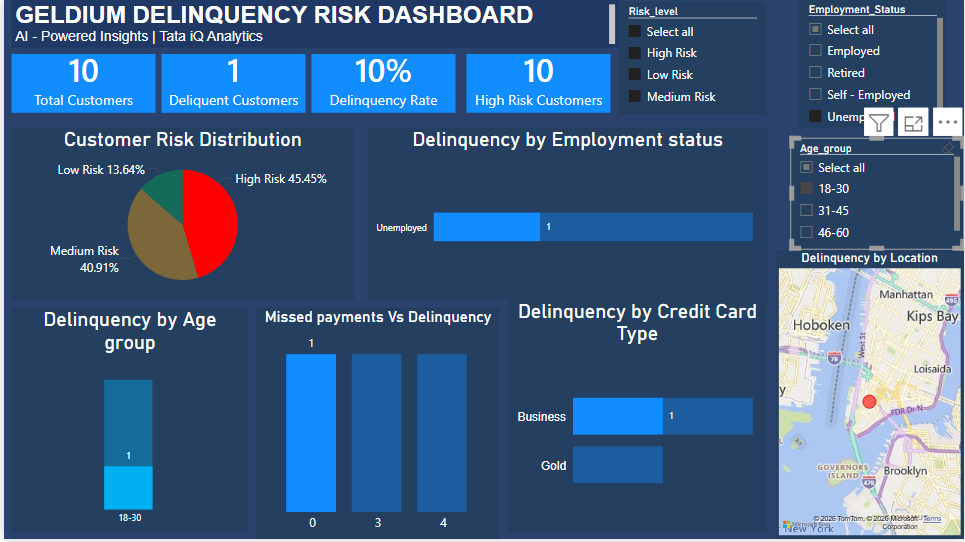

Layout of this report page (visuals, bound fields, positions):
{"tool":"powerbi","page":{"name":"Page 1","canvas":[1280,720],"ordinal":0},"visuals":[{"type":"textbox","box":[10,0,810,65],"z":0},{"type":"cardVisual","fields":{"Data":["CountNonNull(Delinquency_prediction_dataset.Customer_ID)"]},"box":[10,74,192,78],"z":1000},{"type":"cardVisual","fields":{"Data":["Delinquency_prediction_dataset.Deliquent Customers"]},"box":[210,74,192,78],"z":2000},{"type":"cardVisual","fields":{"Data":["Delinquency_prediction_dataset.Delinquency Rate"]},"box":[410,74,192,78],"z":3000},{"type":"cardVisual","fields":{"Data":["CountNonNull(Delinquency_prediction_dataset.Customer_ID)"]},"box":[617.5,74.1,192.1,78.2],"z":4000},{"type":"pieChart","title":"Customer Risk Distribution","fields":{"Y":["CountNonNull(Delinquency_prediction_dataset.Customer_ID)"],"Category":["Delinquency_prediction_dataset.Risk_level"]},"box":[9.6,171.5,456.9,229.2],"z":5000},{"type":"clusteredBarChart","title":"Delinquency by Employment status","fields":{"Category":["Delinquency_prediction_dataset.Employment_Status"],"Y":["Delinquency_prediction_dataset.Deliquent Customers"]},"box":[484.3,171.4,532.9,228.6],"z":6000},{"type":"clusteredColumnChart","title":"Delinquency by Age group","fields":{"Category":["Delinquency_prediction_dataset.Age_group"],"Y":["Delinquency_prediction_dataset.Deliquent Customers"]},"box":[9.6,411.7,315.6,299.1],"z":7000},{"type":"clusteredColumnChart","title":"Missed payments Vs Delinquency","fields":{"Category":["Delinquency_prediction_dataset.Missed_Payments"],"Y":["Delinquency_prediction_dataset.Deliquent Customers"]},"box":[337.1,411.4,324.3,308.6],"z":8000},{"type":"clusteredBarChart","title":"Delinquency by Credit Card Type","fields":{"Category":["Delinquency_prediction_dataset.Credit_Card_Type"],"Y":["Delinquency_prediction_dataset.Deliquent Customers"]},"box":[671.4,400,345.7,311.4],"z":9000},{"type":"map","title":"Delinquency by Location","fields":{"Category":["Delinquency_prediction_dataset.Location"],"Series":["Delinquency_prediction_dataset.Risk_level"],"Size":["Delinquency_prediction_dataset.Deliquent Customers"]},"box":[1028.3,335,251.7,385],"z":10000},{"type":"slicer","fields":{"Values":["Delinquency_prediction_dataset.Risk_level"]},"box":[820,2.9,197.1,150],"z":11000},{"type":"slicer","fields":{"Values":["Delinquency_prediction_dataset.Employment_Status"]},"box":[1060,0,197.1,171.4],"z":12000},{"type":"slicer","fields":{"Values":["Delinquency_prediction_dataset.Age_group"]},"box":[1048.6,184.3,231.4,150],"z":13000}]}

Visuals, with their boxes in screenshot pixels (x1, y1, x2, y2), scaled from the page's 1280x720 canvas onto the 965x542 screenshot:
textbox: [8,0,618,49]
cardVisual - CountNonNull(Delinquency_prediction_dataset.Customer_ID): [8,56,152,114]
cardVisual - Delinquency_prediction_dataset.Deliquent Customers: [158,56,303,114]
cardVisual - Delinquency_prediction_dataset.Delinquency Rate: [309,56,454,114]
cardVisual - CountNonNull(Delinquency_prediction_dataset.Customer_ID): [466,56,610,115]
"Customer Risk Distribution" pieChart: [7,129,352,302]
"Delinquency by Employment status" clusteredBarChart: [365,129,767,301]
"Delinquency by Age group" clusteredColumnChart: [7,310,245,535]
"Missed payments Vs Delinquency" clusteredColumnChart: [254,310,499,541]
"Delinquency by Credit Card Type" clusteredBarChart: [506,301,767,536]
"Delinquency by Location" map: [775,252,964,541]
slicer - Delinquency_prediction_dataset.Risk_level: [618,2,767,115]
slicer - Delinquency_prediction_dataset.Employment_Status: [799,0,948,129]
slicer - Delinquency_prediction_dataset.Age_group: [791,139,964,252]
